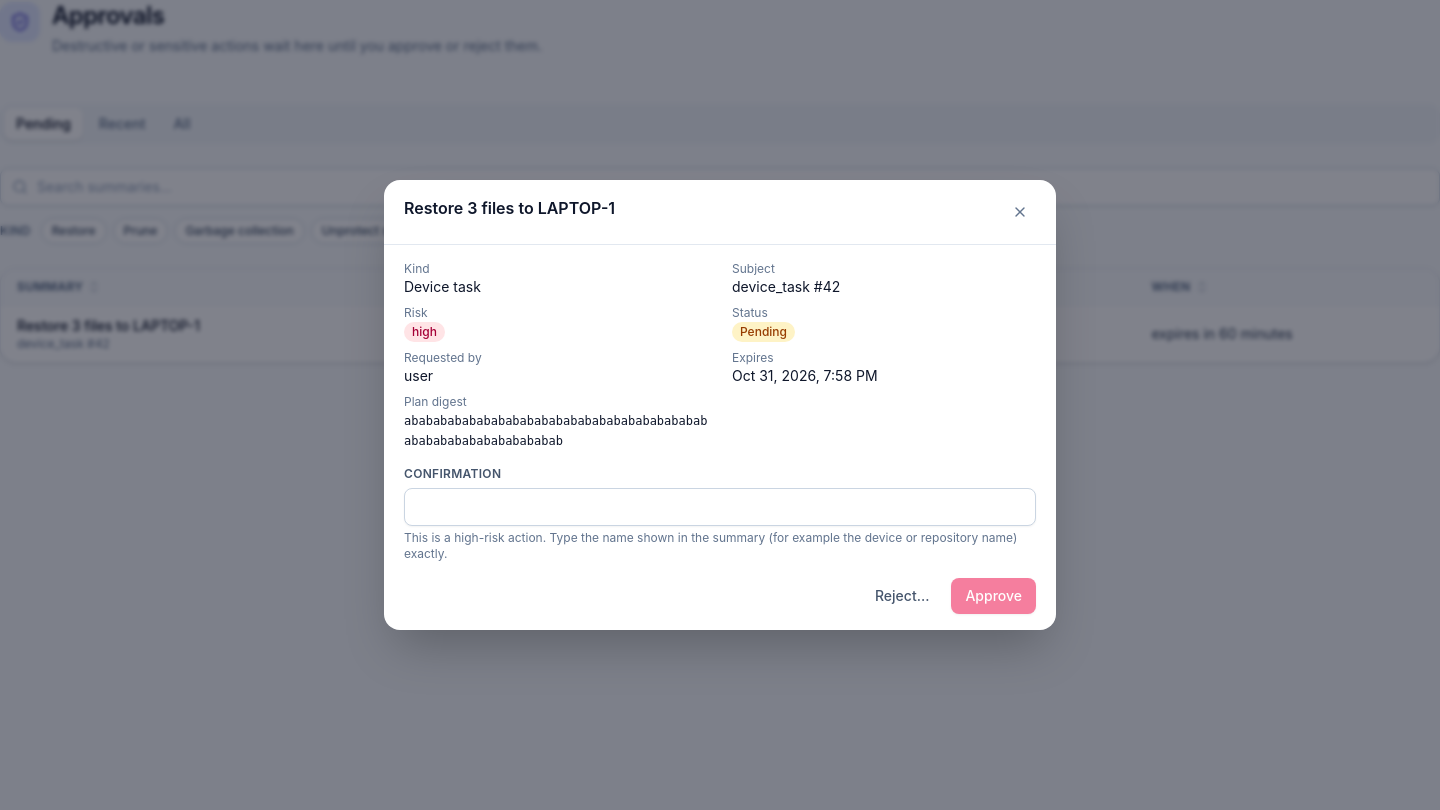
Test: ApprovalsPage › shows a clear message for 409 plan_stale
This screenshot has width=1440, height=810.
In the field named "Confirmation text": (720, 507) [404,488,1036,526], type "X"
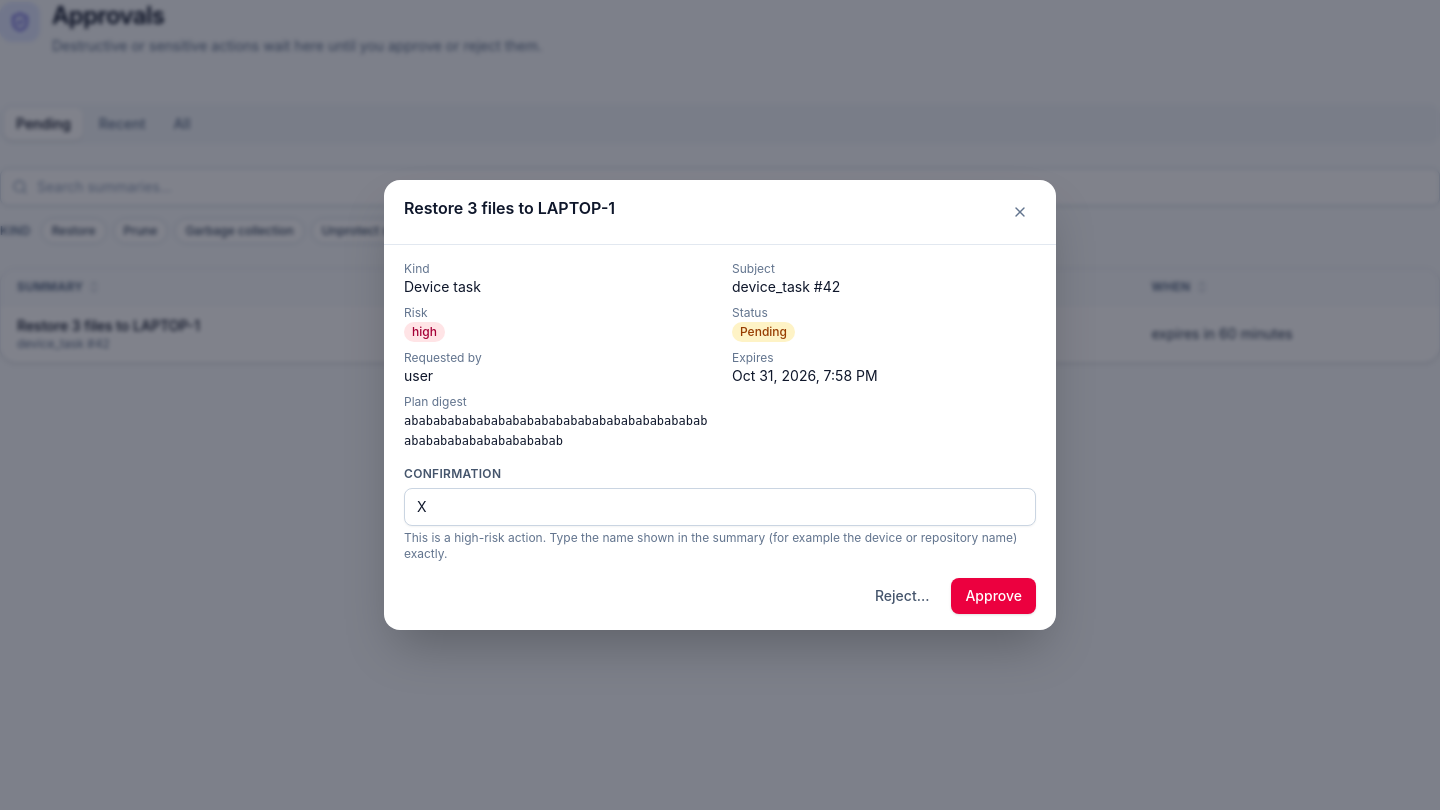
Click the button "Approve": (994, 596) [951,578,1036,614]
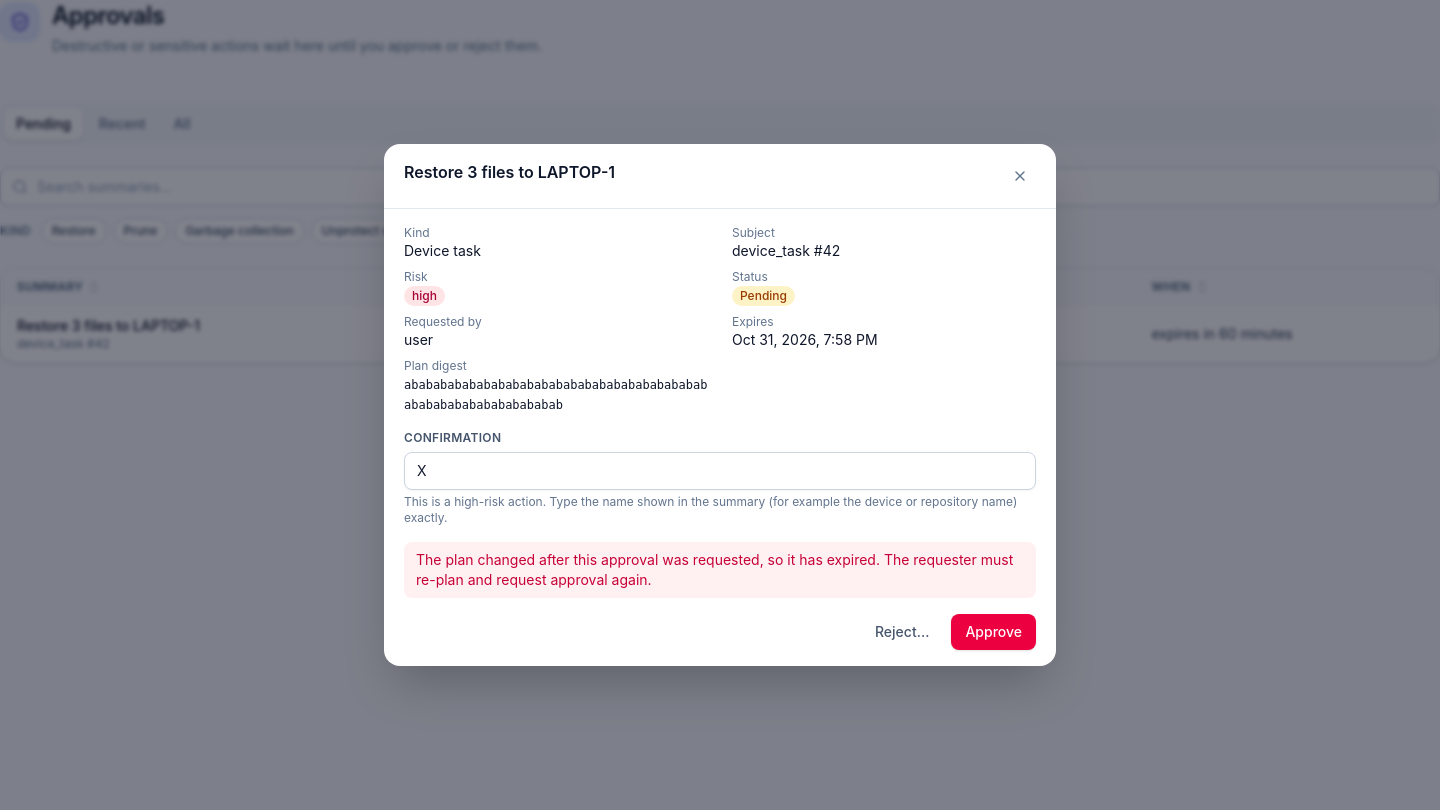
Expected: the dialog is shown, [384,144,1056,666]
Now the message shows "plan changed", box [416,551,1013,588]
